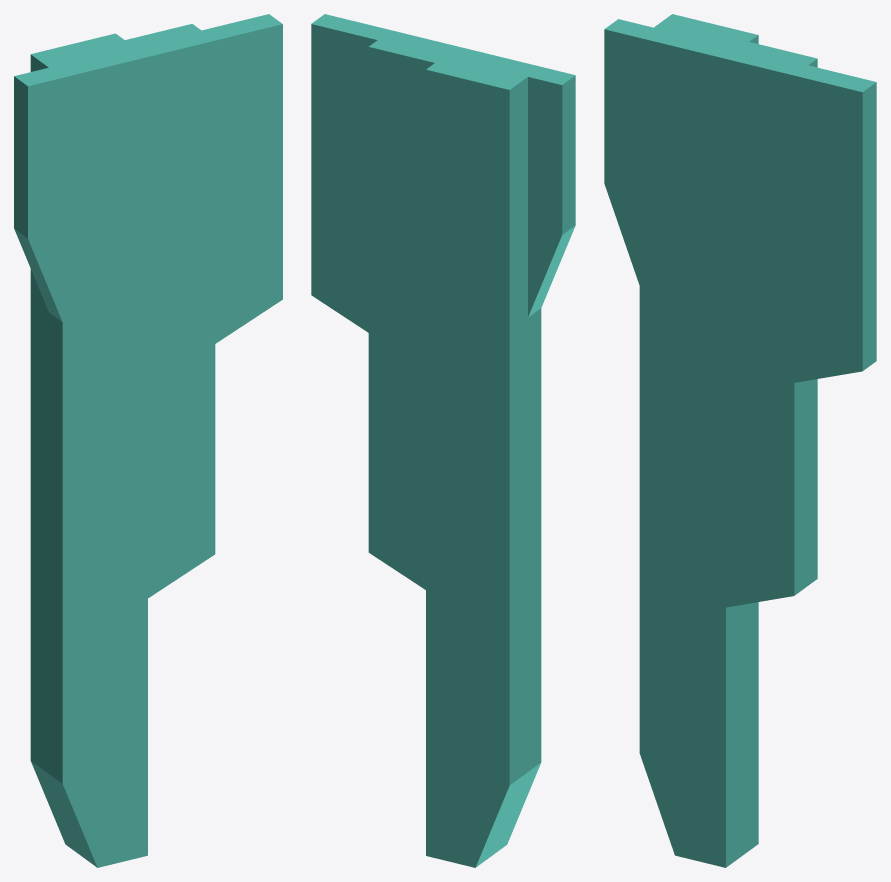
Rendered from hanging_moss.obj.
The picture shows the model from 3 angles, left to right: view 1: azimuth 30°, elevation 25°; view 2: azimuth 150°, elevation 25°; view 3: azimuth 330°, elevation 25°; orthographic projection. The views are drawn at different scales.
Parts seen in each view (by area): view 1: hanging_moss; view 2: hanging_moss; view 3: hanging_moss.
Boxes of the visible parts, box(x1,y1,x2,y2) form: hanging_moss: box(14, 14, 282, 867); hanging_moss: box(311, 14, 575, 867); hanging_moss: box(604, 14, 876, 867).
Bounding box in the file's own units: 1.6 × 4.78 × 0.35.
